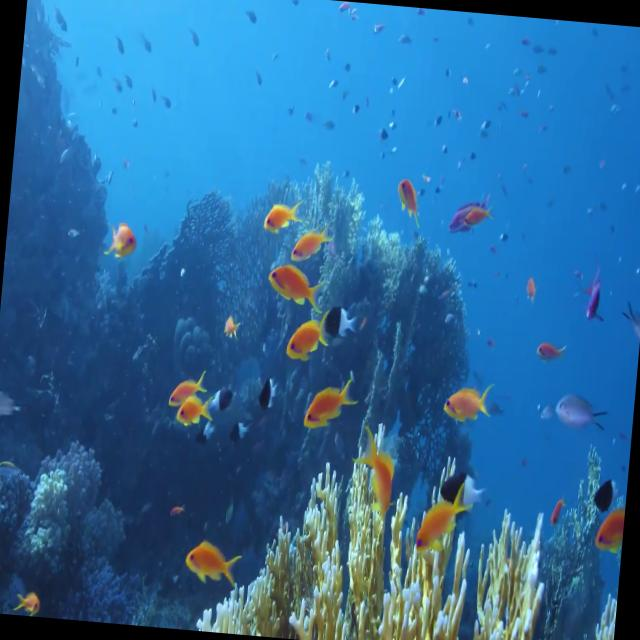fish: (342, 427, 408, 536), (399, 480, 477, 566), (178, 528, 251, 604), (548, 371, 612, 438), (263, 261, 323, 313), (276, 316, 332, 371), (441, 376, 498, 425), (572, 264, 616, 327), (287, 221, 335, 274), (590, 488, 626, 558), (256, 188, 309, 234), (175, 384, 217, 441), (316, 300, 363, 346), (386, 173, 424, 229), (439, 464, 486, 509), (446, 187, 484, 241), (160, 366, 207, 409), (97, 215, 137, 265), (526, 332, 570, 372), (210, 300, 247, 346), (592, 468, 622, 522), (254, 369, 290, 412), (516, 272, 546, 314), (8, 578, 41, 616), (225, 406, 252, 451), (207, 382, 234, 414), (464, 206, 489, 234)
